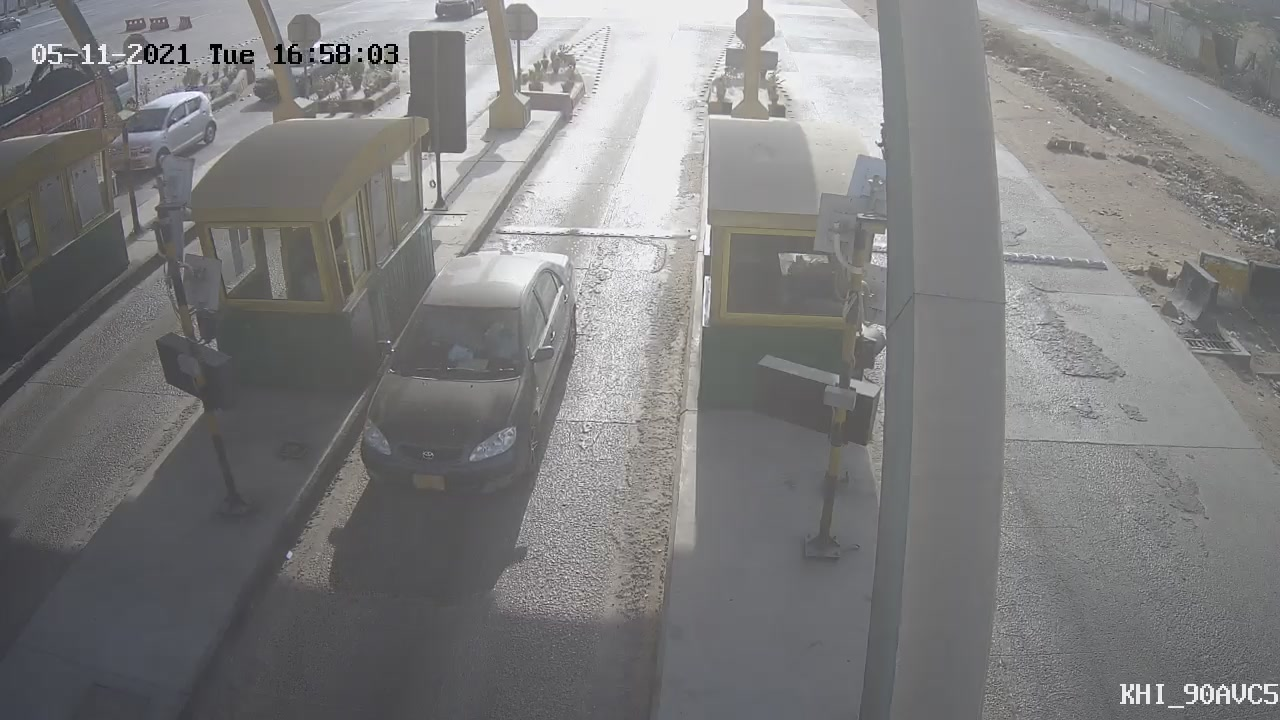F1: (340, 222, 598, 526)
